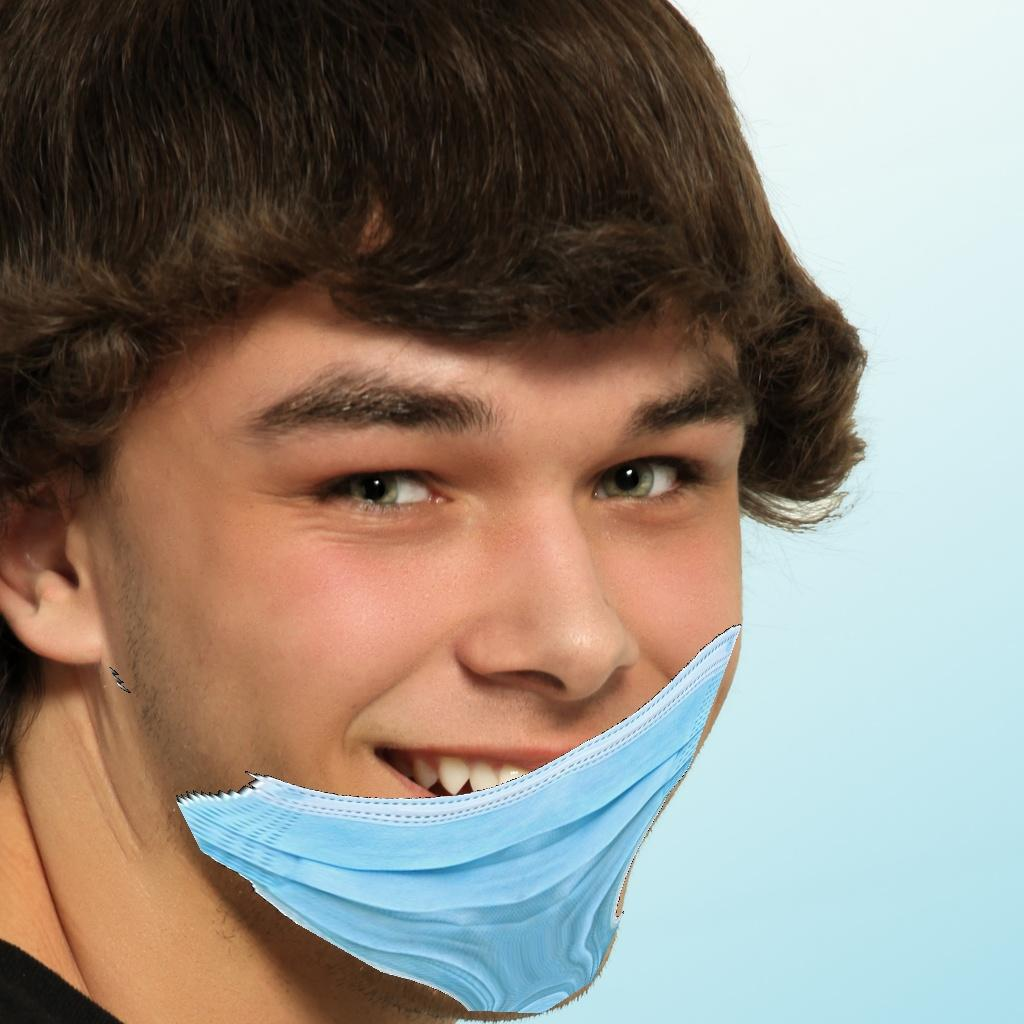Máscara Incorreta: (188, 378, 760, 994)
